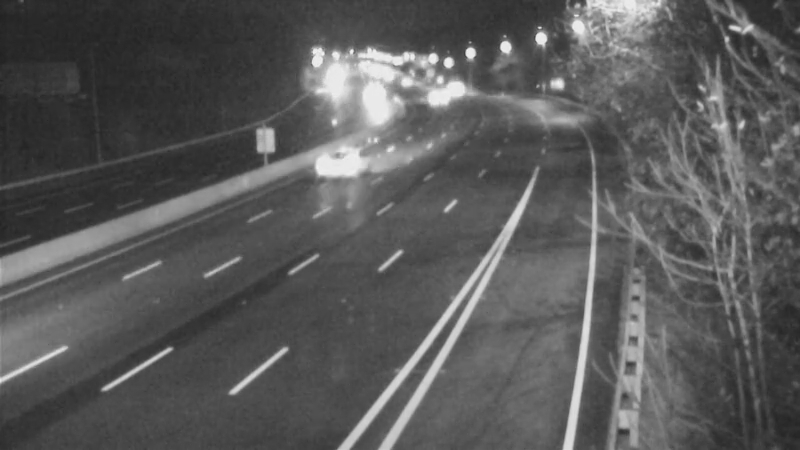vehicle: (308, 128, 388, 208), (378, 57, 428, 107), (432, 62, 482, 112), (415, 74, 465, 124), (345, 73, 395, 123)
